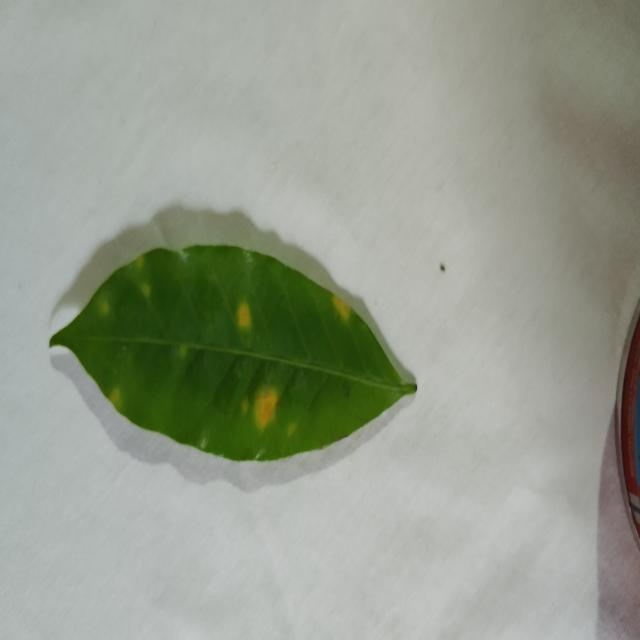Enfermedad-Roya: (48, 245, 418, 463)
